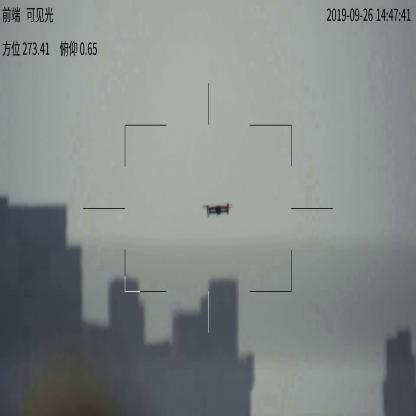uav: (200, 200, 234, 216)
